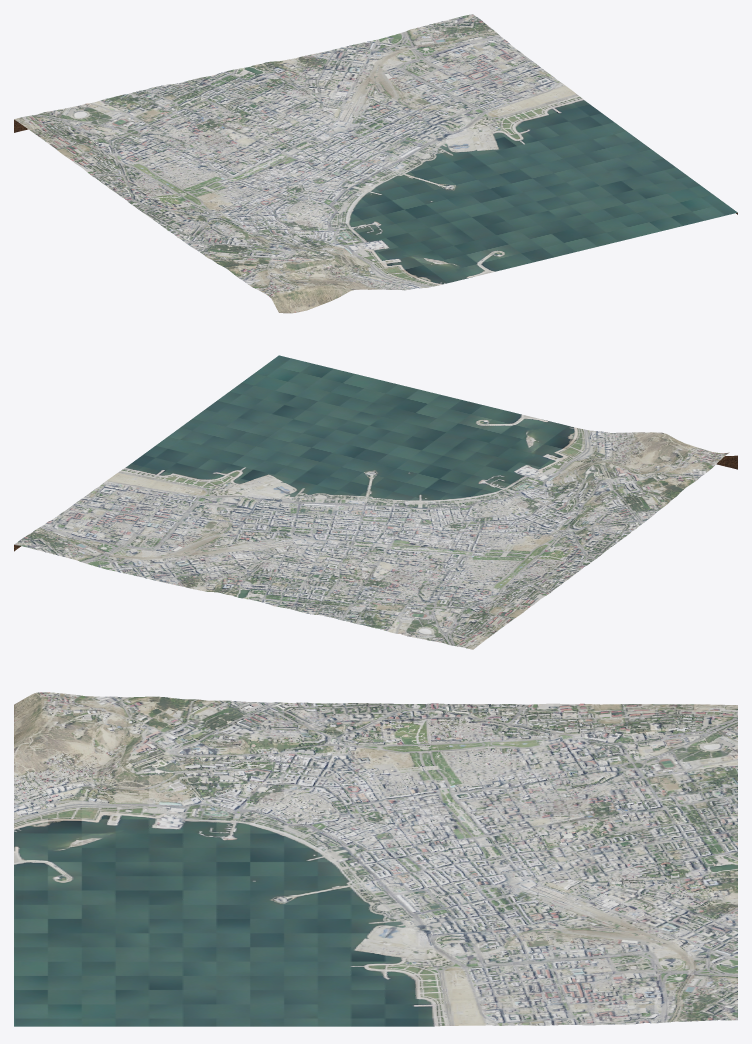
File: 17_azerbaidjan_gp.glb
The picture shows the model from 3 angles, top to bottom: view 1: azimuth 30°, elevation 25°; view 2: azimuth 150°, elevation 25°; view 3: azimuth 270°, elevation 25°; orthographic projection. The views are drawn at different scales.
Visible parts, largest first — view 1: tinMesh; view 2: tinMesh; view 3: tinMesh.
Boxes of the visible parts, <box> form: tinMesh: <box>14,14,737,313</box>; tinMesh: <box>14,355,729,649</box>; tinMesh: <box>14,692,737,1026</box>.
Bounding box in the file's own units: 6571 × 321 × 6571.
2 materials, 2 textured.
